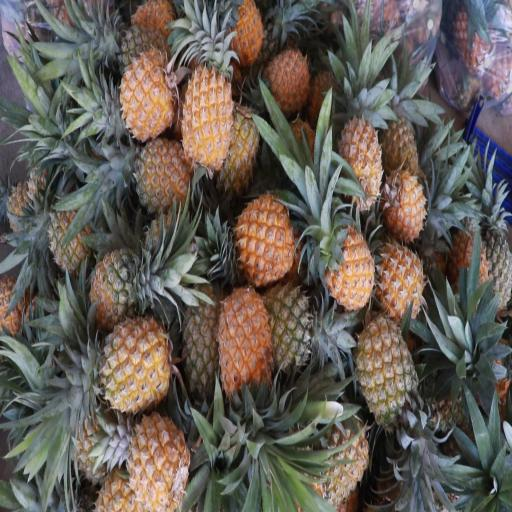------------------------------: (353, 307, 423, 441), (176, 262, 236, 390), (83, 250, 146, 340)
Pineapple - v8 v1: (88, 315, 176, 418), (214, 271, 272, 412), (121, 398, 190, 510), (180, 51, 237, 178), (123, 126, 196, 220), (228, 181, 295, 278), (334, 85, 384, 208), (322, 180, 377, 286), (121, 49, 175, 154), (311, 416, 370, 512), (374, 234, 425, 326), (258, 34, 312, 115), (382, 159, 430, 242)
